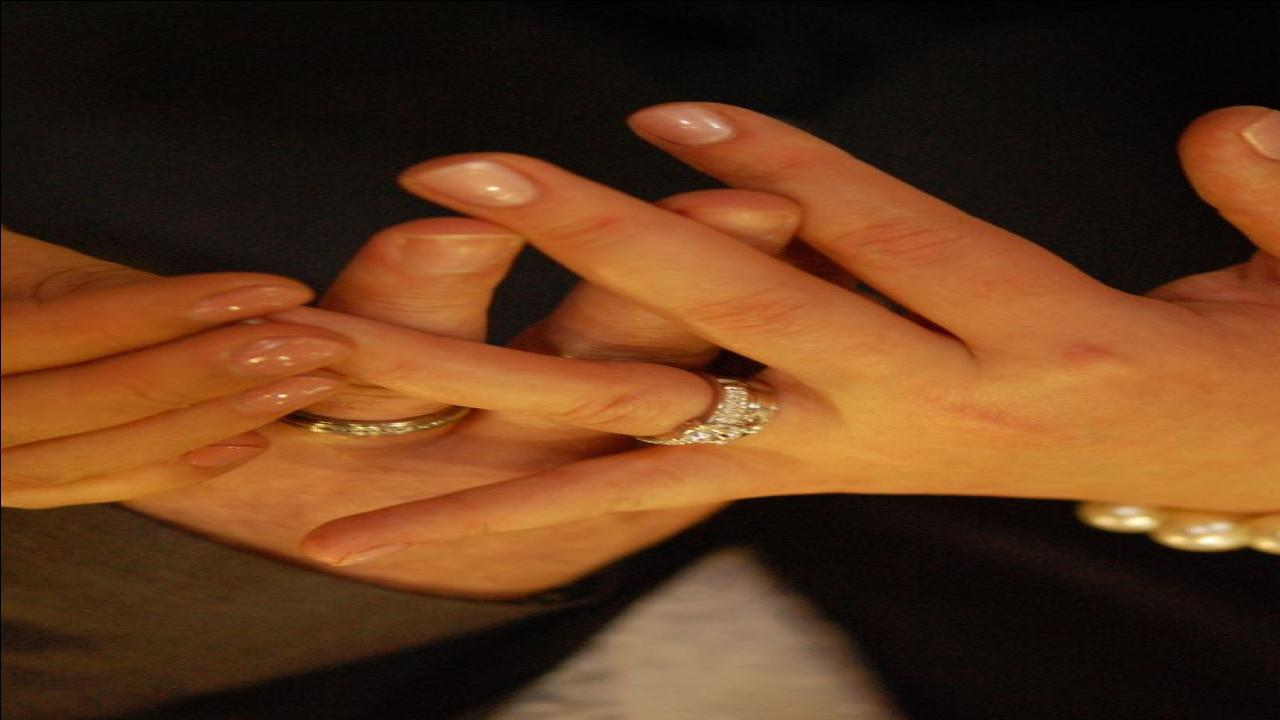ring: (636, 378, 776, 448), (276, 404, 474, 441)
